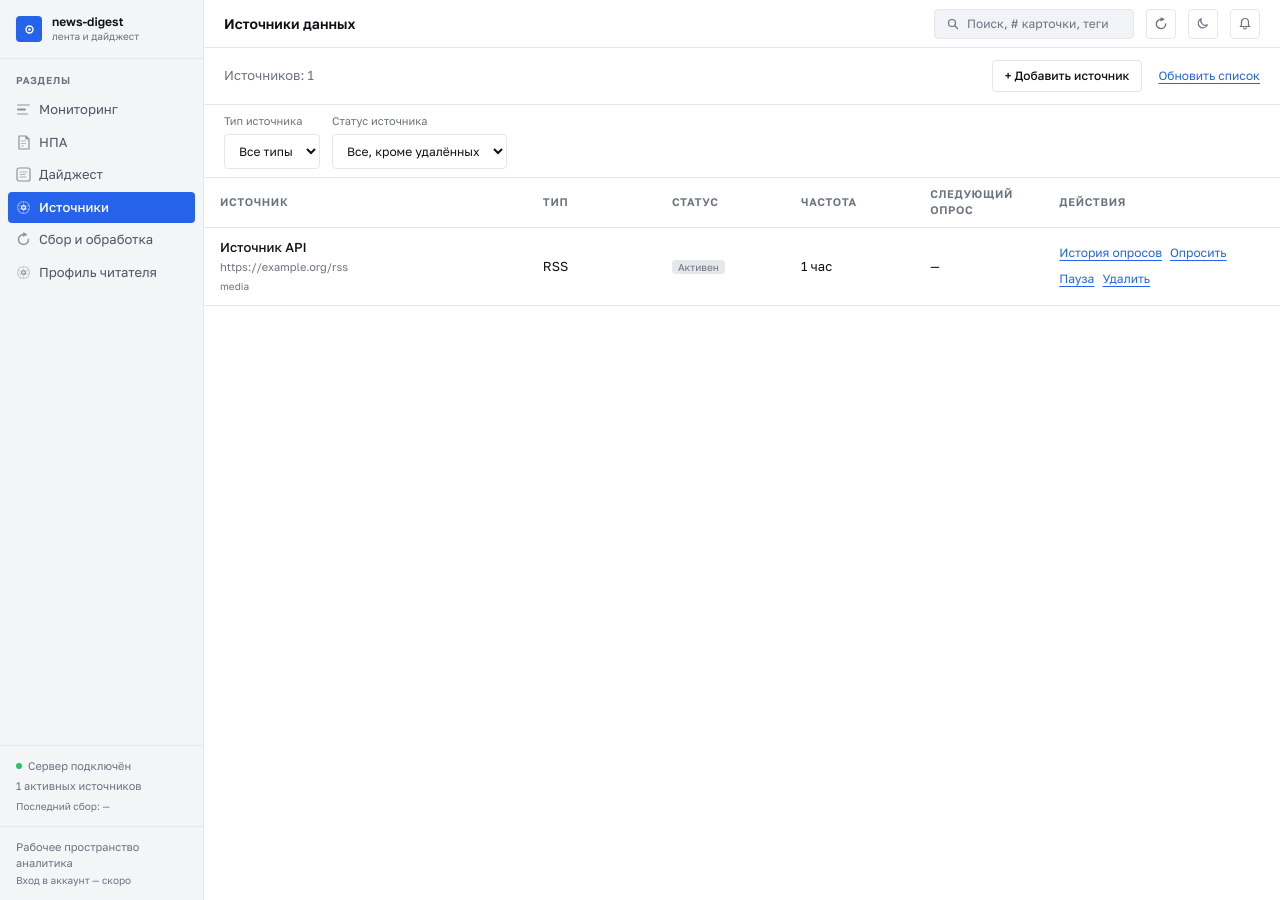
Test: source APIs › reports a collection error instead of announcing a successful refresh
Click the button "Опросить" at (1198, 253), box top-left (1170, 244), bottom-right (1227, 262)
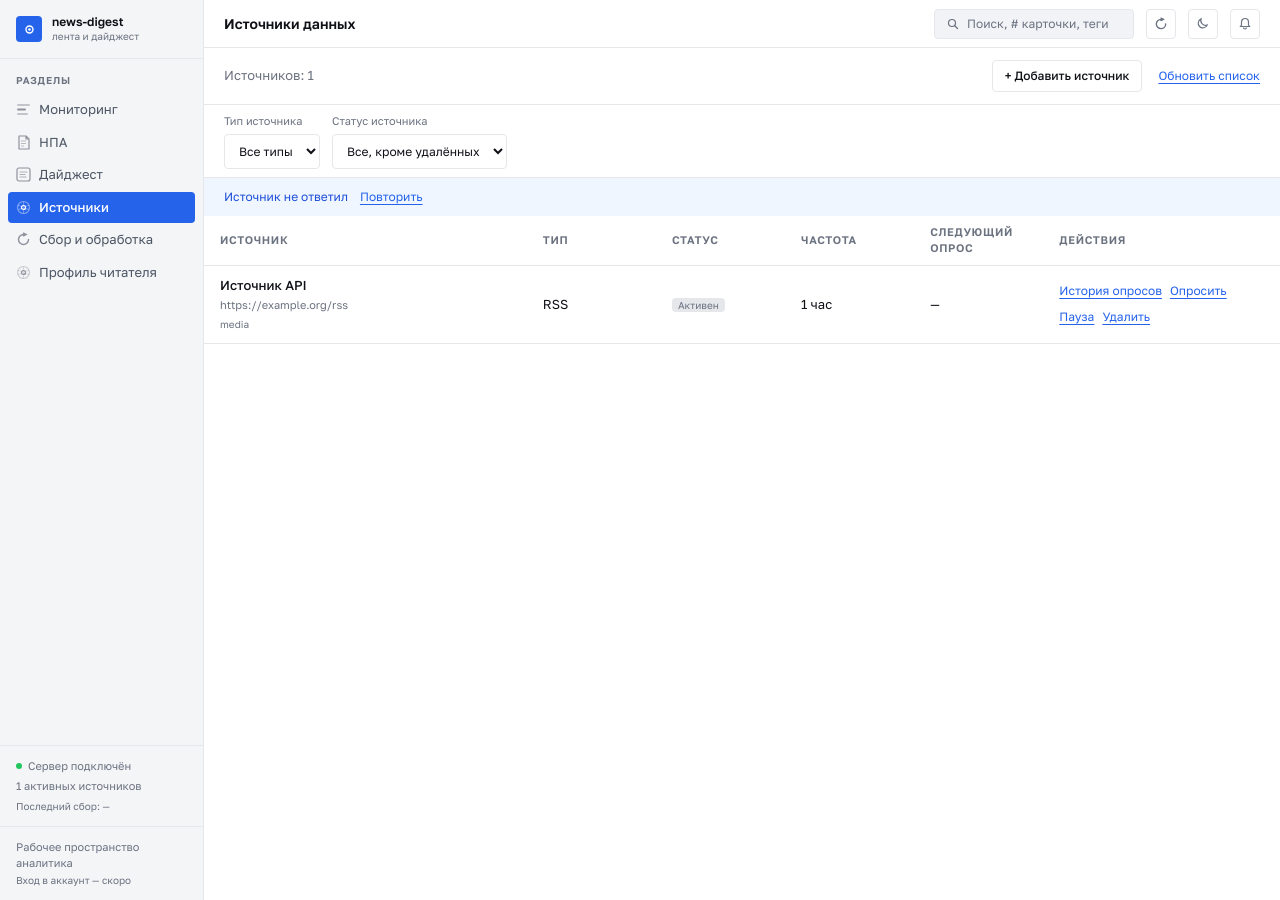
Expected: the text "Источник не ответил" is shown, top-left (224, 188), bottom-right (348, 204)
